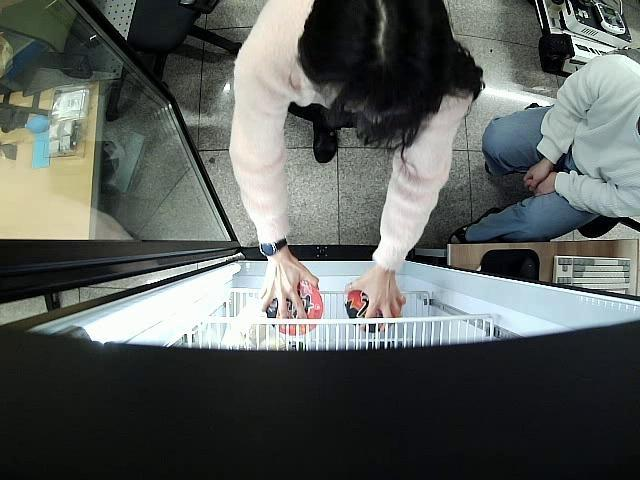01_ShinRamen_L: (263, 278, 324, 335), (346, 284, 396, 332)
